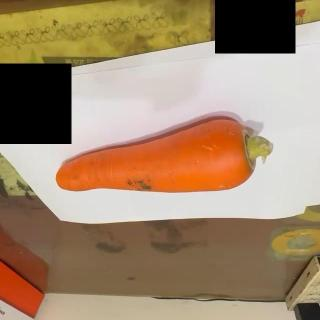carrot: (51, 118, 271, 194)
